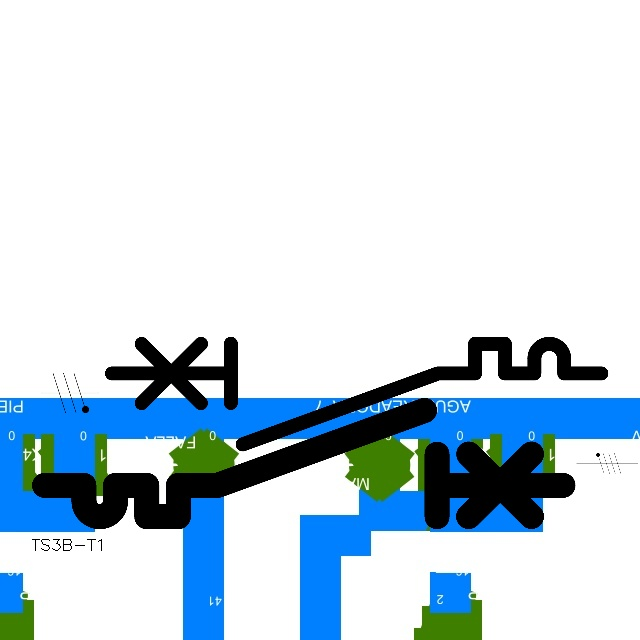interruptor_termomagnetico: (31, 397, 576, 530), (99, 331, 614, 457)
